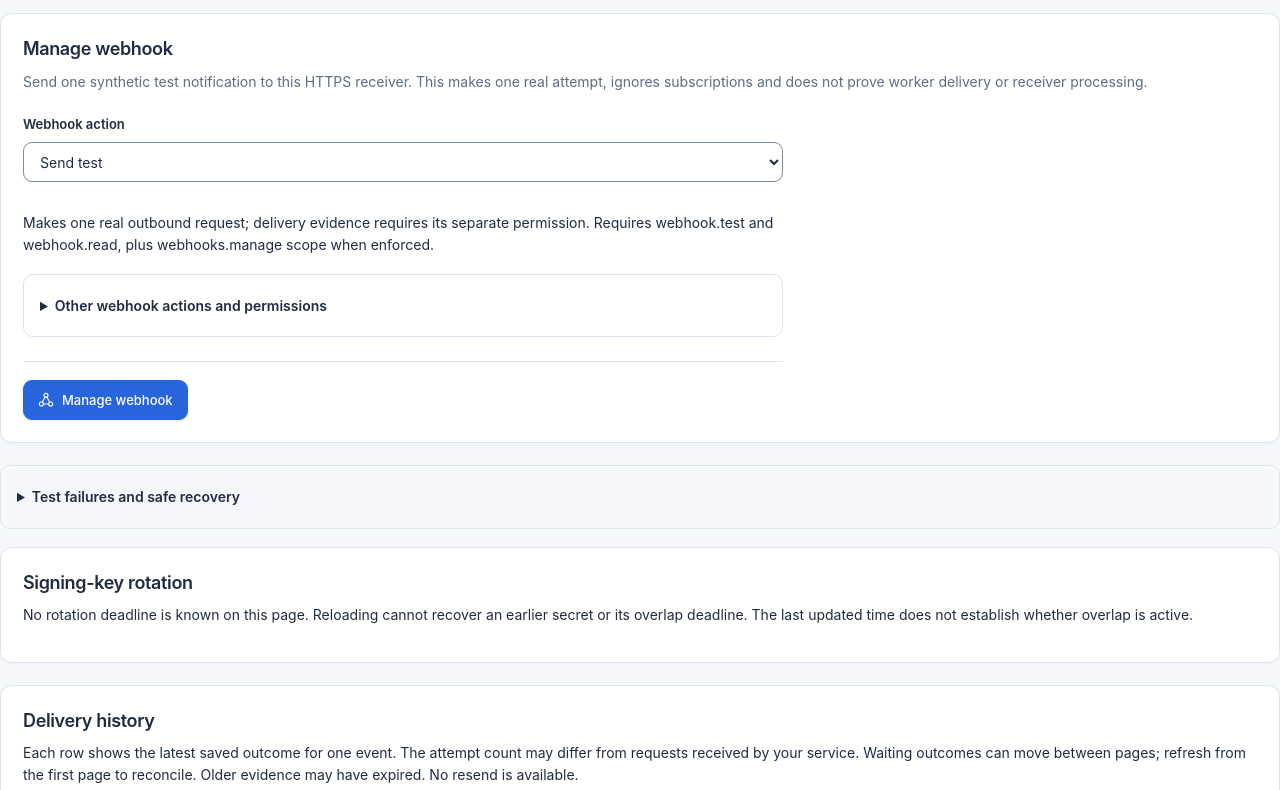
reports a synthetic receiver test that dead_letter
(page scrolled)
Expected: the dropdown labelled "Webhook action" is shown, x1=23 y1=142 x2=783 y2=182
Click the button "Manage webhook": (105, 400) x1=23 y1=380 x2=188 y2=420
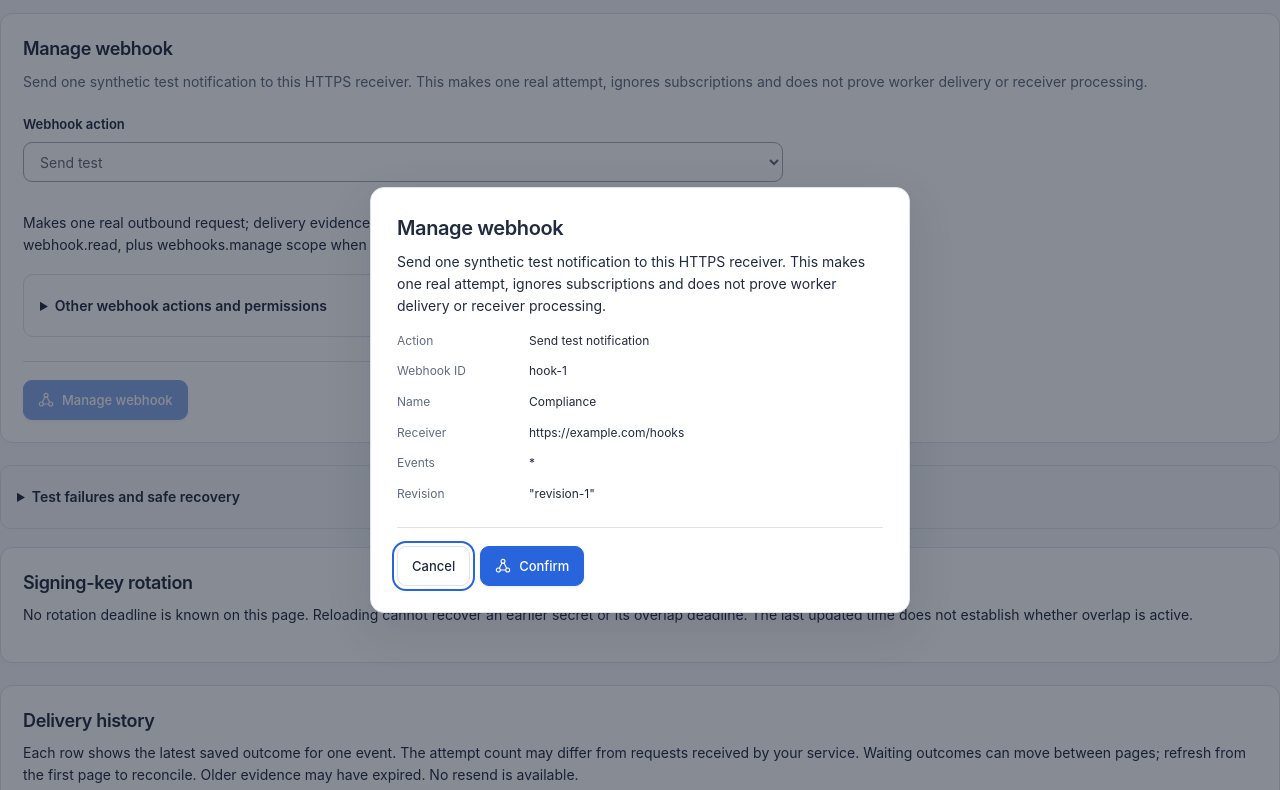
Click the button "Confirm": (532, 566) x1=480 y1=546 x2=584 y2=586
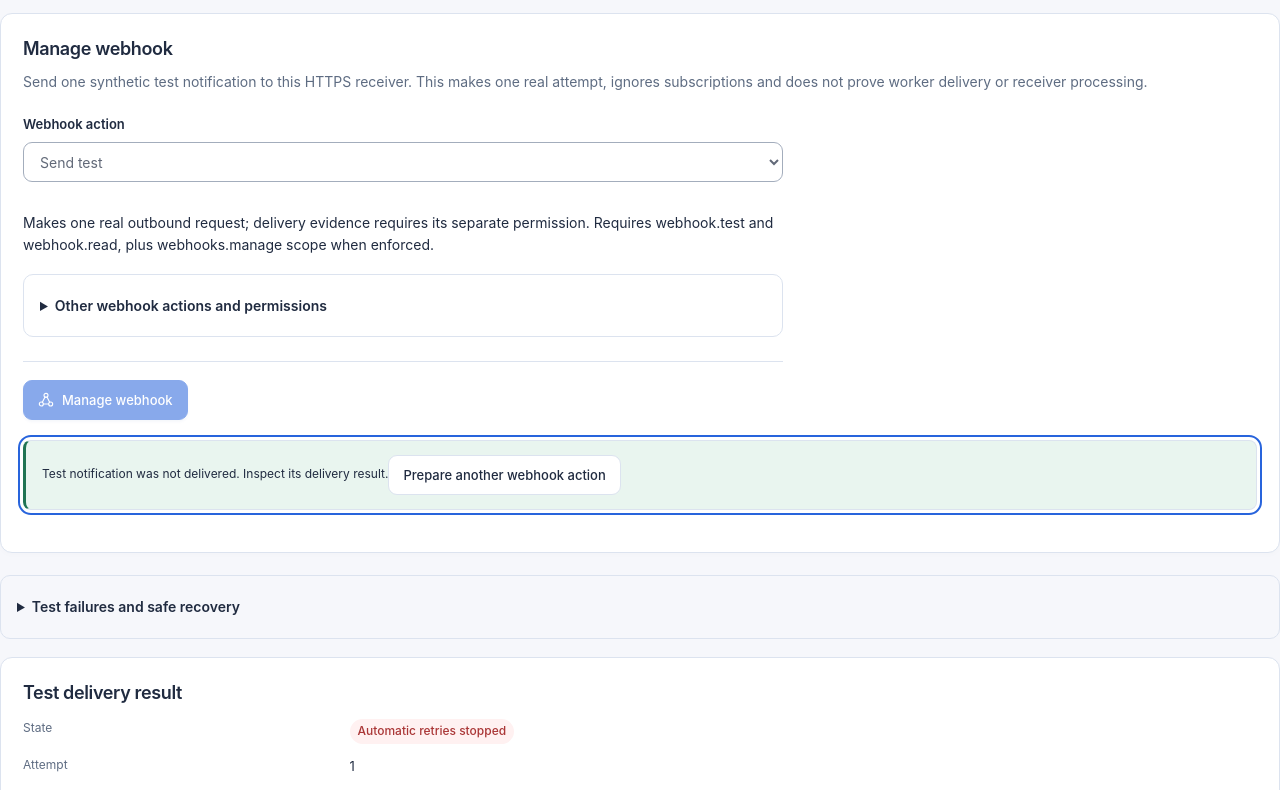
Now the text "Test notification was not delivered" is shown, box x1=42 y1=467 x2=388 y2=482
